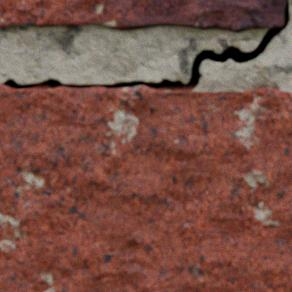brick: (0, 84, 291, 291), (0, 0, 285, 32)
crack: (1, 0, 290, 92)
